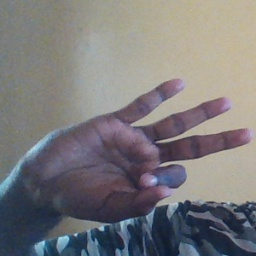K: (20, 77, 253, 224)
